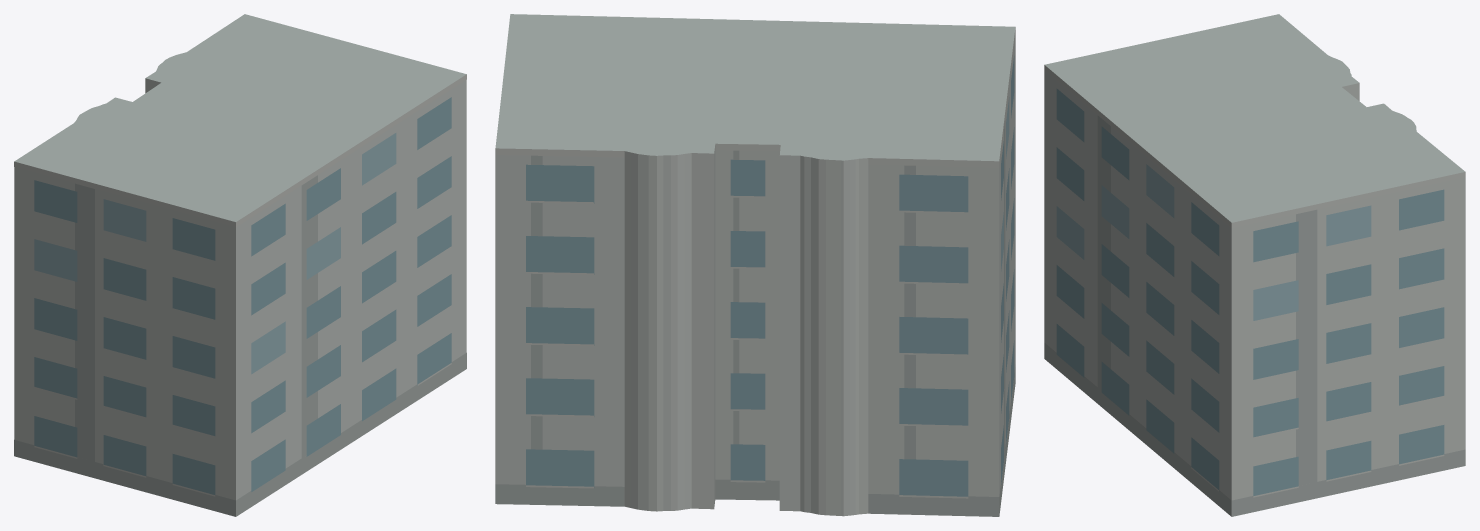
The model's file is survey-upis-32839469.glb.
The picture shows the model from 3 angles, left to right: view 1: azimuth 30°, elevation 25°; view 2: azimuth 150°, elevation 25°; view 3: azimuth 270°, elevation 25°; orthographic projection. The views are drawn at different scales.
Visible parts, largest first — view 1: survey-upis-32839469.tmp; view 2: survey-upis-32839469.tmp; view 3: survey-upis-32839469.tmp.
Boxes of the visible parts, bbox=[...] form: survey-upis-32839469.tmp: bbox=[14, 14, 466, 516]; survey-upis-32839469.tmp: bbox=[495, 14, 1015, 516]; survey-upis-32839469.tmp: bbox=[1044, 14, 1465, 516].
Bounding box in the file's own units: 20.11 × 13.2 × 17.14.
